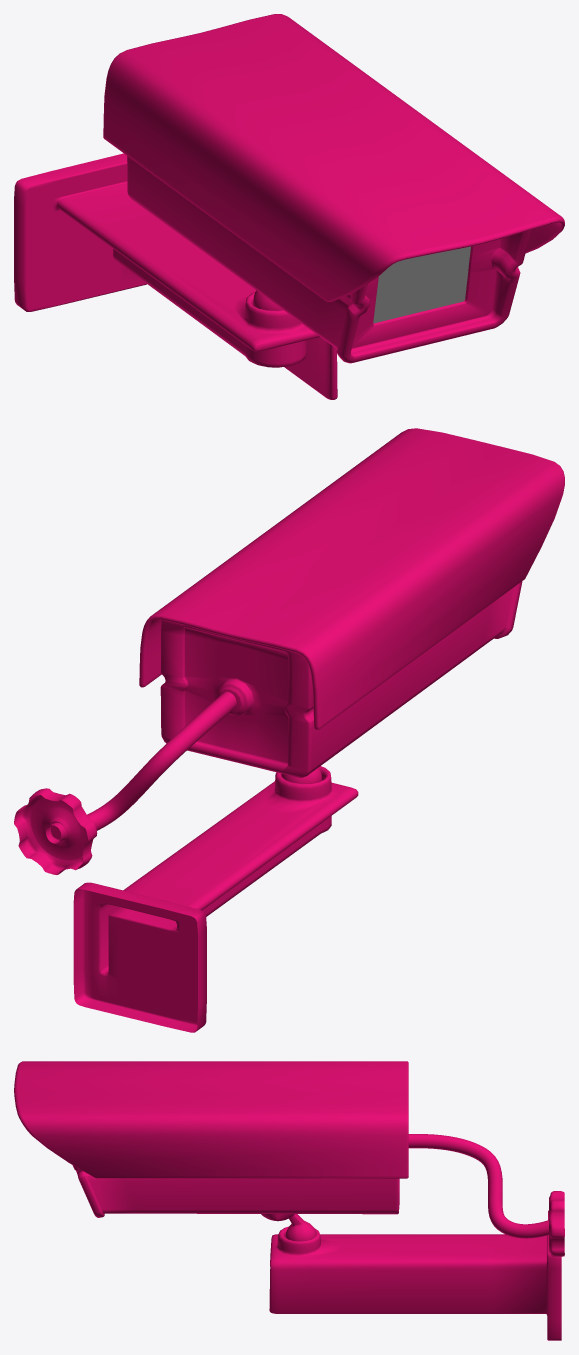
Rendered from CCTV.FBX.
3 renders of one model, top to bottom at view 1: azimuth 30°, elevation 25°; view 2: azimuth 150°, elevation 25°; view 3: azimuth 270°, elevation 25°, orthographic. The views are drawn at different scales.
Visible parts, largest first — view 1: Main, CCTV_low, WindowGlass; view 2: Main, CCTV_low, Connection, Cable; view 3: Main, CCTV_low, Cable, Connection.
Part boxes in pixels (<box>): Main: <box>103,14,564,363</box>; CCTV_low: <box>14,153,337,399</box>; WindowGlass: <box>373,246,470,323</box>; Main: <box>139,428,564,783</box>; CCTV_low: <box>73,766,358,1032</box>; Connection: <box>14,788,97,874</box>; Cable: <box>46,691,236,843</box>; Main: <box>14,1061,408,1241</box>; CCTV_low: <box>269,1210,561,1340</box>; Cable: <box>408,1134,548,1238</box>; Connection: <box>549,1191,564,1256</box>.
Bounding box in the file's own units: 7.27 × 22.64 × 10.69.
